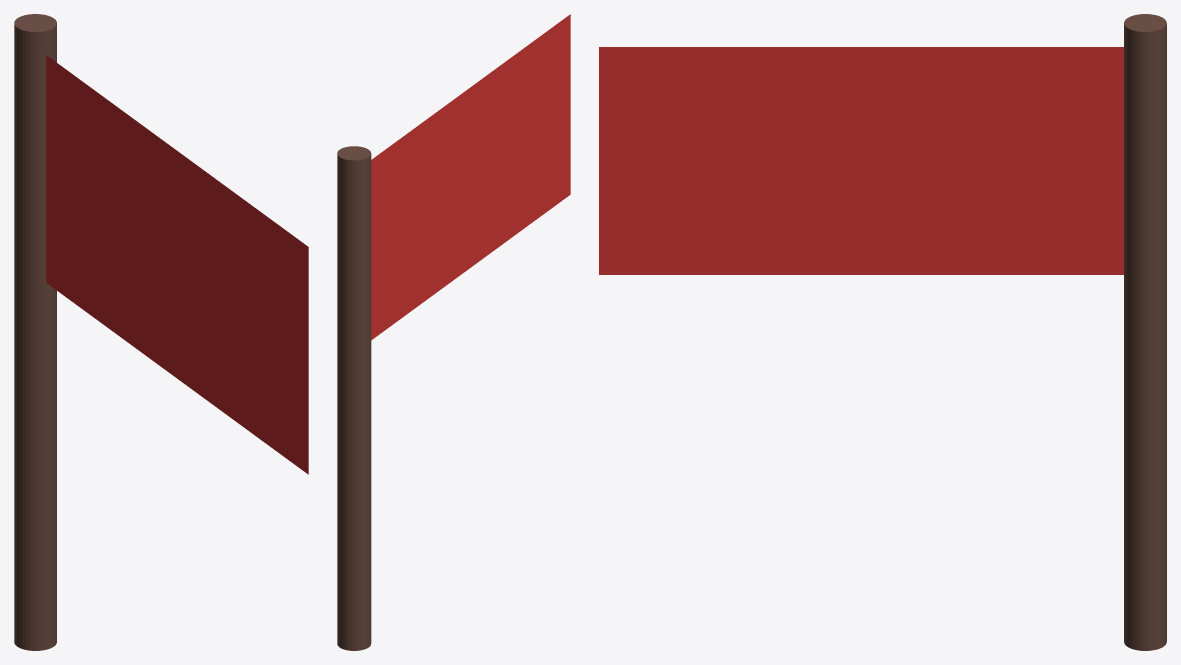
File: Flag_01.fbx
The picture shows the model from 3 angles, left to right: view 1: azimuth 30°, elevation 25°; view 2: azimuth 150°, elevation 25°; view 3: azimuth 270°, elevation 25°; orthographic projection. The views are drawn at different scales.
Parts seen in each view (by area): view 1: Plane; view 2: Plane; view 3: Plane.
Part boxes in pixels (x1,y1,x2,y2): Plane: (14, 14, 308, 650); Plane: (337, 14, 570, 650); Plane: (599, 14, 1166, 650).
Size of the model in its own units: 12.55 by 200 by 166.
